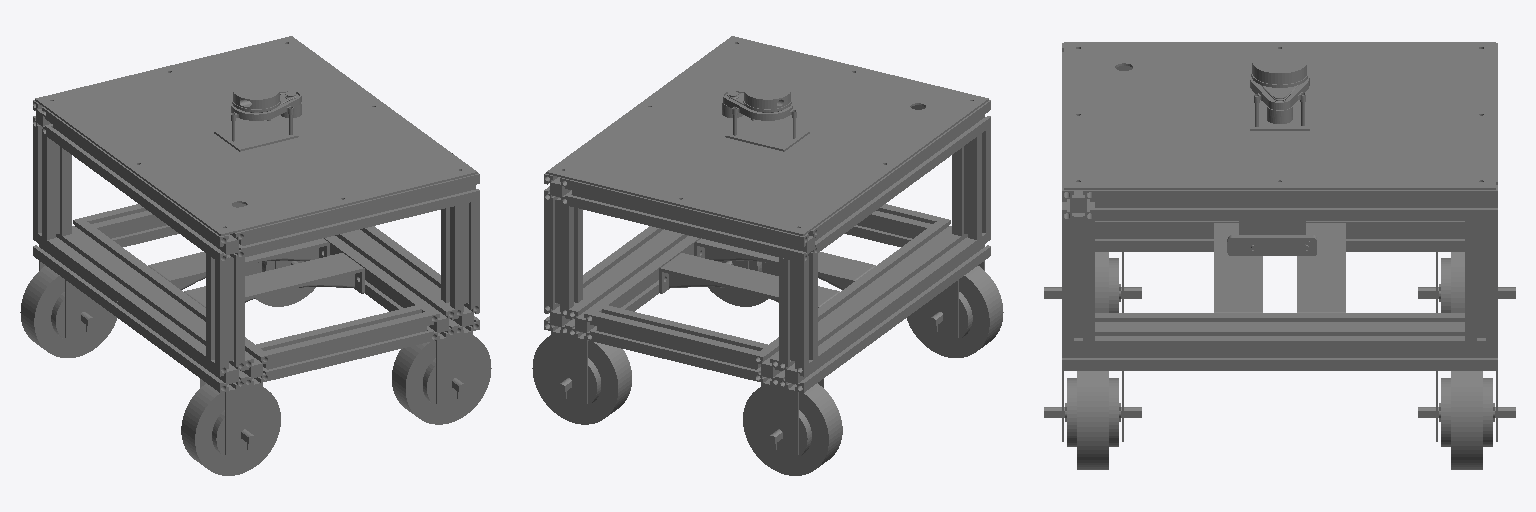
The robot description file, URDF, robot "my_robot":
<?xml version="1.0" ?>
<!-- =================================================================================== -->
<!-- |    This document was autogenerated by xacro from simple_car_frame.urdf.xacro    | -->
<!-- |    EDITING THIS FILE BY HAND IS NOT RECOMMENDED                                 | -->
<!-- =================================================================================== -->
<robot name="my_robot">
  <material name="gray">
    <color rgba="0.55 0.55 0.55 1"/>
  </material>
  <!-- 차체 기준 프레임 -->
  <link name="base_link">
    <visual>
      <origin rpy="0.0 0.0 -1.5708" xyz="-0.21 0.2625 0.0"/>
      <geometry>
        <mesh filename="package://my_car_package/meshes/simple_car_frame.stl" scale="0.001 0.001 0.001"/>
      </geometry>
      <material name="gray"/>
    </visual>
  </link>
  <!-- LiDAR 프레임 -->
  <link name="laser_frame"/>
  <joint name="base_to_lidar" type="fixed">
    <parent link="base_link"/>
    <child link="laser_frame"/>
    <origin rpy="3.1416 0 0" xyz="0.0 -0.0531 0.33635"/>
  </joint>
  <!-- T265 프레임 -->
  <link name="camera_link"/>
  <joint name="base_to_t265" type="fixed">
    <parent link="camera_link"/>
    <child link="base_link"/>
    <origin rpy="0.0 0.0 0.0" xyz="-0.1825 0.0 -0.152"/>
  </joint>
</robot>

--- Render facts (derived) ---
The picture shows the robot from 3 angles, left to right: view 1: azimuth 30°, elevation 25°; view 2: azimuth 150°, elevation 25°; view 3: azimuth 270°, elevation 25°; orthographic projection.
Robot: my_robot — 3 links, 2 joints (2 fixed); root link camera_link; default pose: all joints at 0.
Visible links, largest first — view 1: base_link; view 2: base_link; view 3: base_link.
Link boxes in pixels (x1,y1,x2,y2): base_link: (20, 36, 491, 475); base_link: (532, 36, 1003, 475); base_link: (1044, 42, 1515, 469).
Size in the robot's own frame: 0.479 by 0.567 by 0.4561 metres.
1 mesh visuals loaded from 1 distinct referenced files (1 binary STL).
